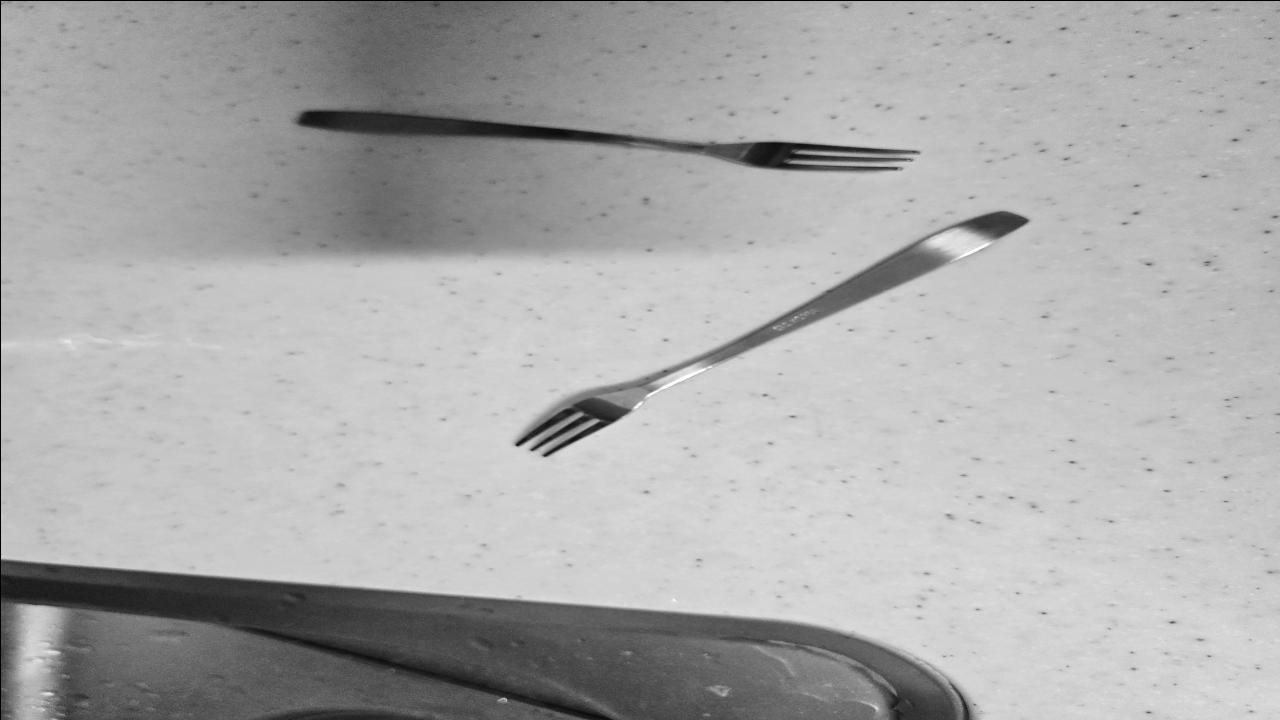fork: (519, 212, 1026, 453), (304, 109, 912, 176)
